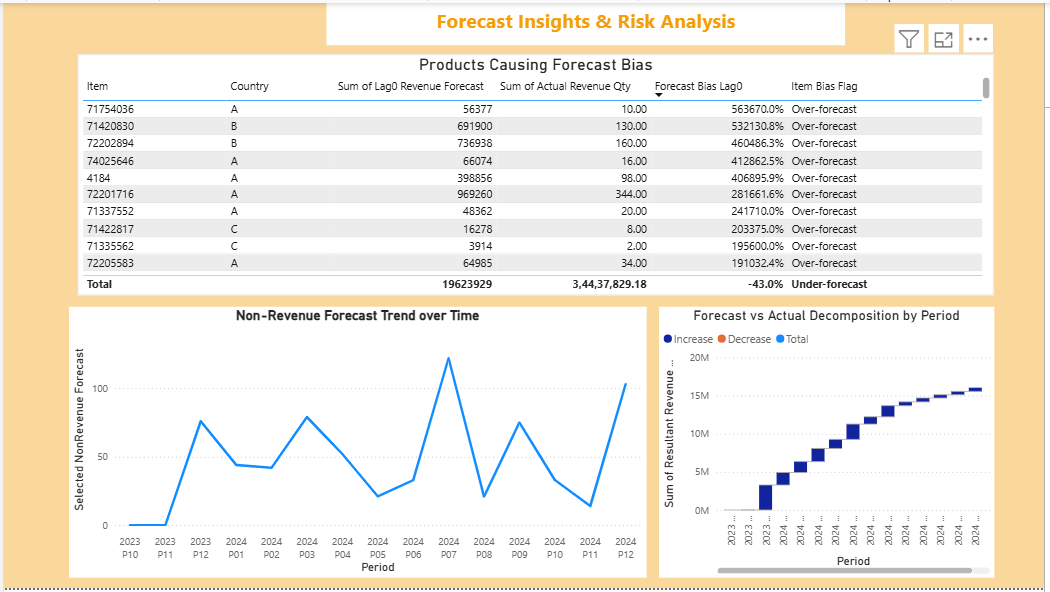

This screenshot's page, from the dashboard's own definition file:
{"tool":"powerbi","page":{"name":"Forecast Insights & Risk Analysis","canvas":[1280,720],"ordinal":5},"visuals":[{"type":"tableEx","title":"Products Causing Forecast Bias","fields":{"Values":["ForecastWide.Item","ForecastWide.Country","Sum(ForecastWide.Lag0 Revenue Forecast)","Sum(ForecastWide.Actual Revenue Qty)","ForecastWide.Forecast Bias Lag0","ForecastWide.Item Bias Flag"]},"box":[90.8,63.1,1128,297],"z":0},{"type":"lineChart","title":"Non-Revenue Forecast Trend over Time","fields":{"Category":["DimPeriod.Period"],"Y":["ForecastWide.Selected NonRevenue Forecast"]},"box":[80,373.9,710.9,333.9],"z":1},{"type":"waterfallChart","title":"Forecast vs Actual Decomposition by Period","fields":{"Category":["DimPeriod.Period"],"Y":["Sum(ForecastWide.Resultant Revenue Forecast)"]},"box":[806.4,373.9,412.4,333.9],"z":2},{"type":"textbox","box":[397,0,638.6,52.3],"z":3}]}

Visuals, with their boxes in screenshot pixels (x1, y1, x2, y2), scaled from the page's 1280x720 canvas onto the 1050x592 screenshot:
"Products Causing Forecast Bias" tableEx: 74:52:1000:296
"Non-Revenue Forecast Trend over Time" lineChart: 66:307:649:582
"Forecast vs Actual Decomposition by Period" waterfallChart: 662:307:1000:582
textbox: 326:0:850:43
